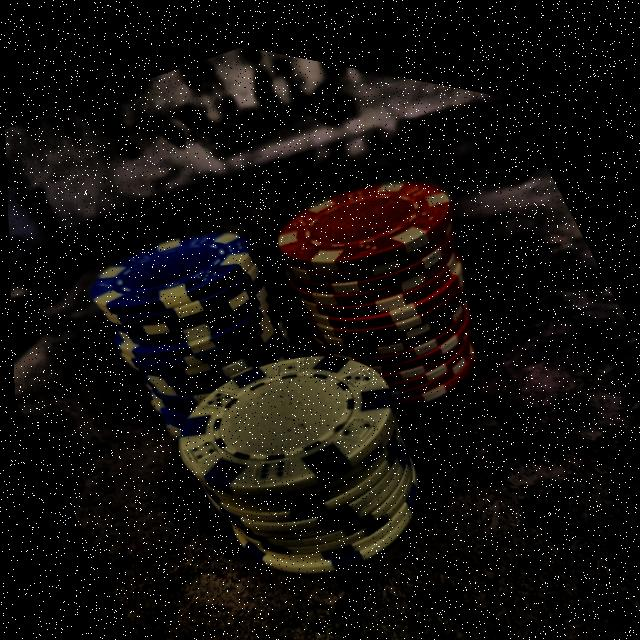Chip: (109, 242, 480, 640), (229, 79, 546, 447), (66, 180, 334, 471)
